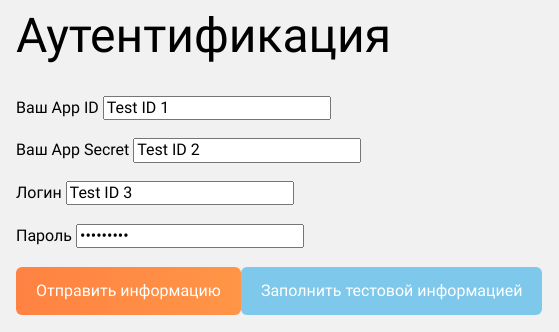
Scenario: Auth Page › testing info should appear when clicking a button
Click the button with test id "test_info" at (392, 291), box [241, 267, 542, 315]
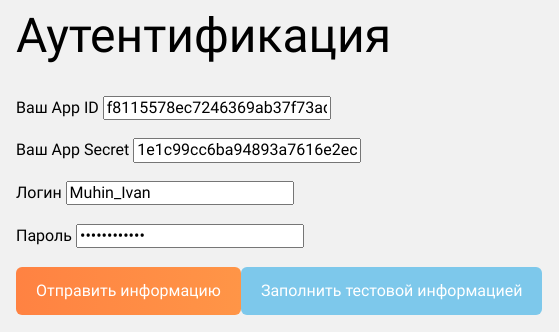
Now the field labelled "Ваш App ID" holds "f8115578ec7246369ab37f73adb10c62", box [103, 96, 331, 120]
Now the field labelled "Ваш App Secret" holds "1e1c99cc6ba94893a7616e2ececaaf28", box [133, 138, 361, 163]
Now the field labelled "Логин" holds "Muhin_Ivan", box [66, 181, 294, 206]
